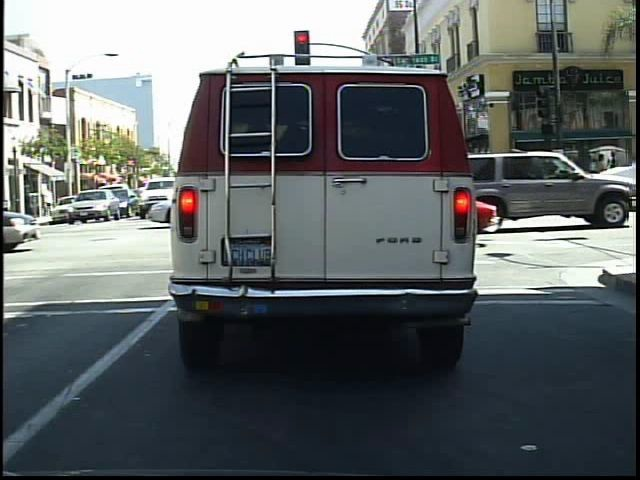person: (600, 142, 625, 209), (538, 151, 562, 209), (513, 156, 535, 207)
